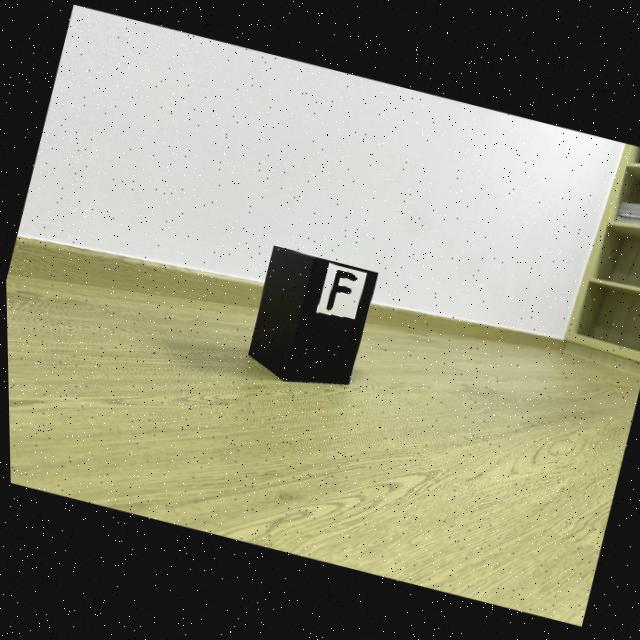F: (325, 271, 355, 312)
